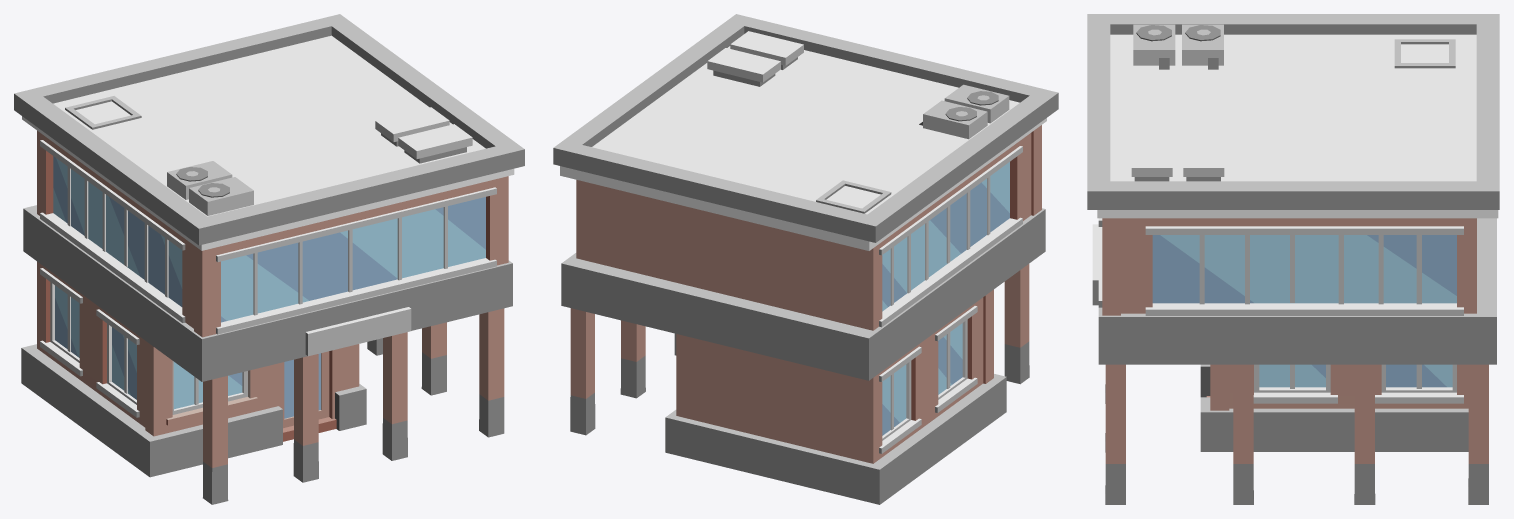
Rendered from bank_006.fbx.
The picture shows the model from 3 angles, left to right: view 1: azimuth 30°, elevation 25°; view 2: azimuth 150°, elevation 25°; view 3: azimuth 270°, elevation 25°; orthographic projection. The views are drawn at different scales.
Parts seen in each view (by area): view 1: bank_006; view 2: bank_006; view 3: bank_006.
Part boxes in pixels (bbox=[...]): bank_006: bbox=[14, 14, 524, 504]; bank_006: bbox=[553, 14, 1058, 504]; bank_006: bbox=[1087, 14, 1499, 504].
Size of the model in its own units: 714 by 613 by 701.
